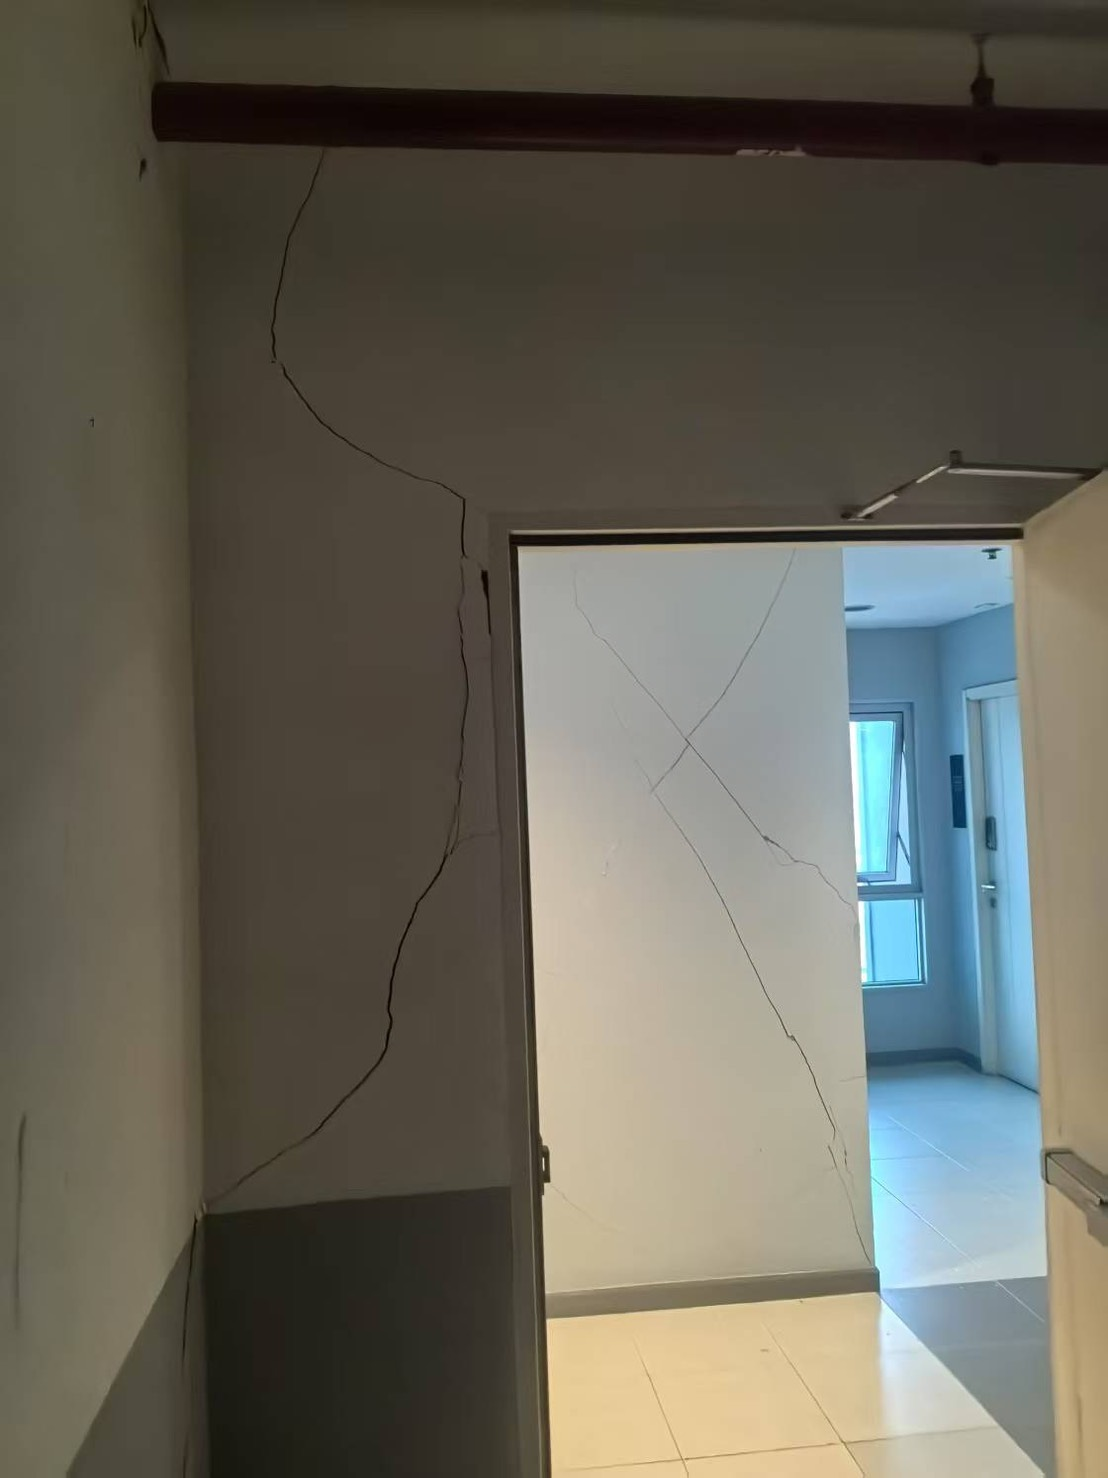Medium: (234, 510, 488, 1173)
